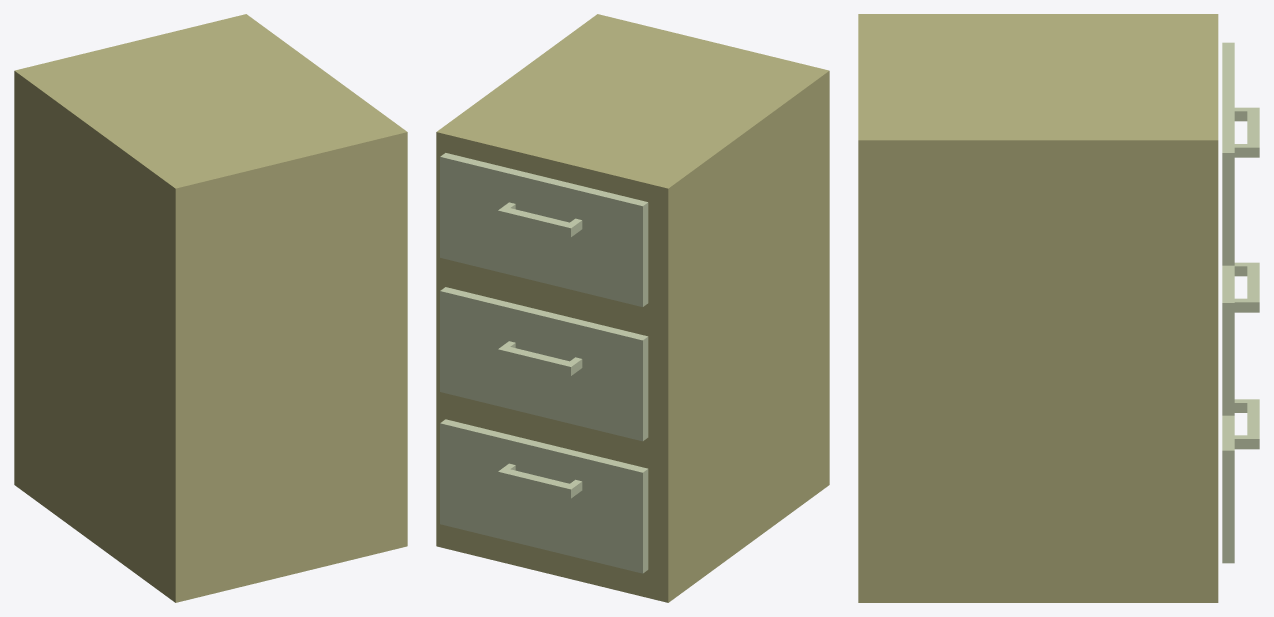
Rendered from Archivero.obj.
3 renders of one model, left to right at view 1: azimuth 30°, elevation 25°; view 2: azimuth 150°, elevation 25°; view 3: azimuth 270°, elevation 25°, orthographic. The views are drawn at different scales.
Parts seen in each view (by area): view 1: Archivero:pCube21; view 2: Archivero:pCube21; view 3: Archivero:pCube21.
Part boxes in pixels (x1,y1,x2,y2): Archivero:pCube21: (14,14,407,602); Archivero:pCube21: (436,14,829,602); Archivero:pCube21: (858,14,1259,602).
Bounding box in the file's own units: 3.68 × 6.28 × 4.94.
7 materials, 7 textured.
